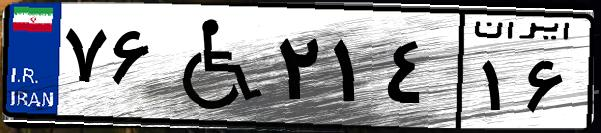1: (330, 28, 385, 110), (475, 38, 525, 113)
2: (270, 28, 330, 110)
4: (385, 28, 445, 110)
6: (525, 38, 570, 115), (110, 28, 158, 98)
7: (57, 26, 110, 100)
ژ (معلولین و جانبازان): (158, 12, 270, 120)
